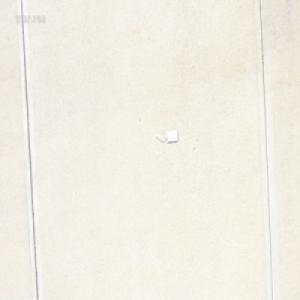LuggageTag: (153, 128, 178, 145)
